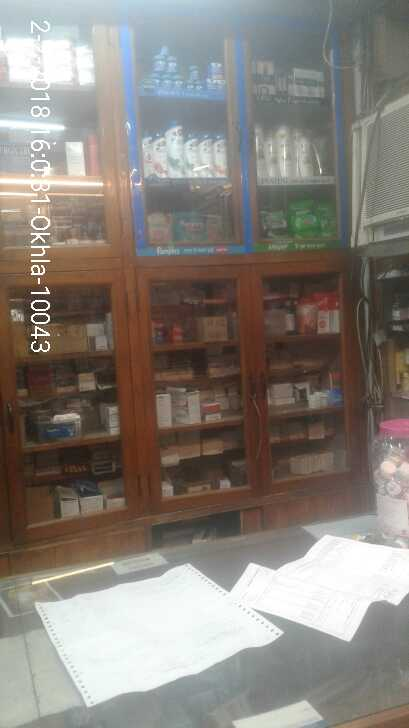vicks: (143, 40, 230, 94)
